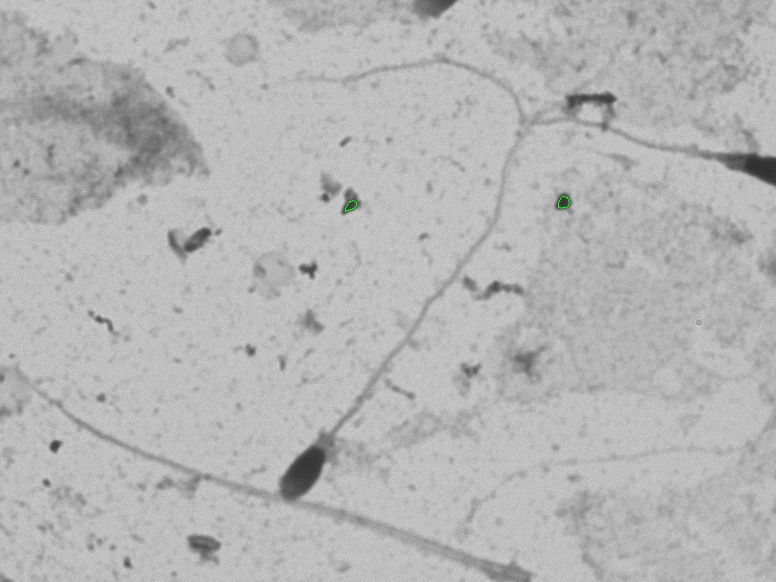Normal: (263, 43, 541, 511)
